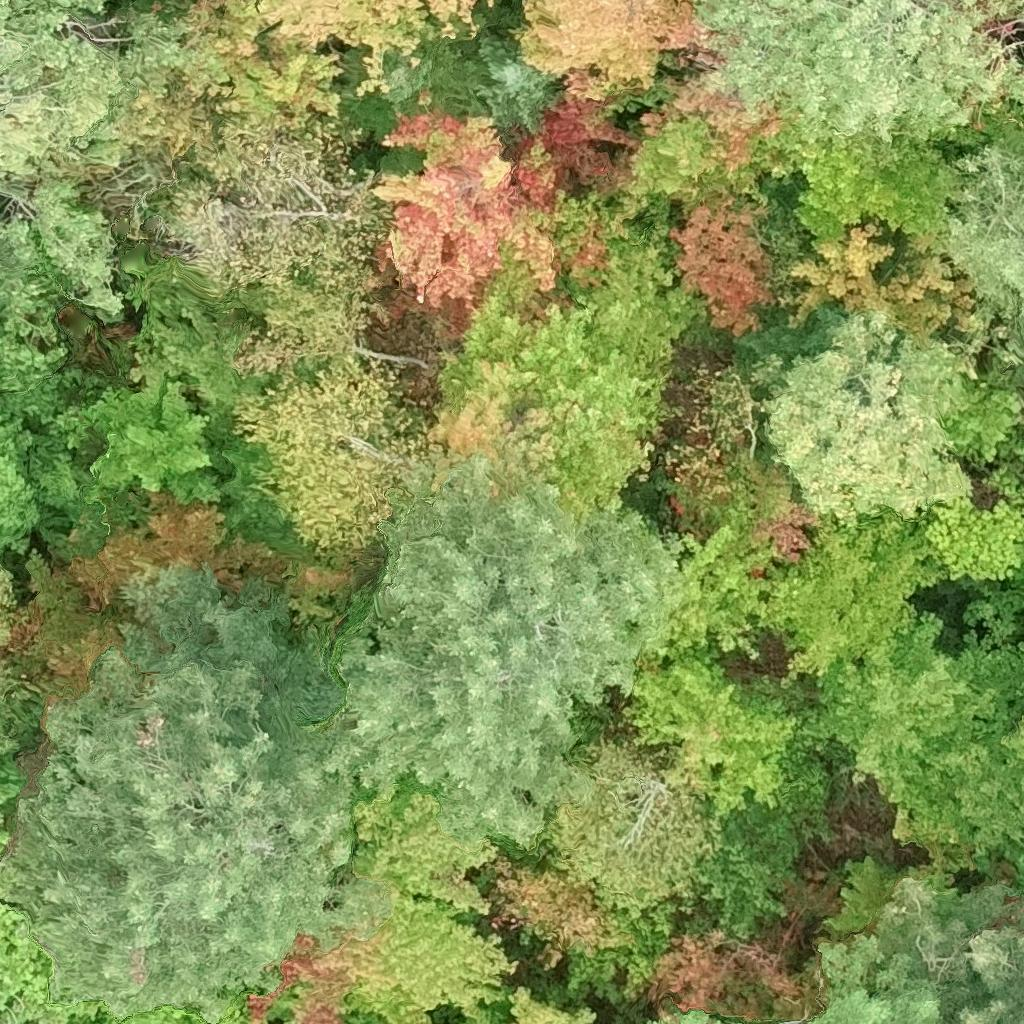crown: (0, 562, 386, 1023), (325, 457, 685, 846), (490, 656, 835, 1023), (428, 221, 707, 510), (42, 305, 309, 571), (368, 95, 642, 346), (247, 776, 519, 1023), (160, 111, 393, 374), (0, 0, 182, 311), (687, 0, 1023, 147), (749, 311, 972, 525), (233, 356, 433, 572), (817, 612, 1006, 804), (121, 0, 344, 162), (759, 509, 949, 674), (664, 378, 821, 577), (553, 738, 721, 914), (756, 127, 970, 258), (895, 640, 1023, 854), (71, 492, 285, 609), (511, 0, 724, 116), (788, 222, 980, 349), (638, 495, 774, 668), (257, 0, 478, 98), (812, 880, 960, 1023), (903, 881, 1023, 1023), (0, 376, 95, 553), (670, 185, 778, 337), (0, 899, 130, 1023), (940, 149, 1023, 337), (916, 466, 1023, 586), (453, 33, 569, 138), (0, 250, 77, 405), (0, 552, 55, 758), (644, 70, 756, 164), (486, 986, 602, 1023), (0, 754, 29, 855), (127, 1005, 208, 1023), (263, 988, 297, 1023), (652, 1007, 708, 1023), (347, 1003, 387, 1023), (218, 1001, 251, 1023), (485, 0, 493, 8), (466, 1019, 473, 1023), (732, 1021, 742, 1023)
